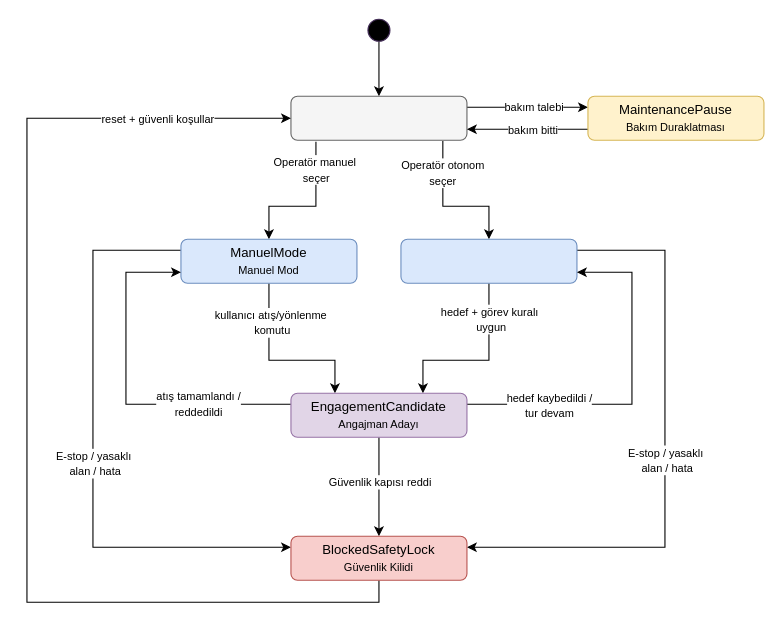
The diagram is 783 pixels wide and 630 high, and some of its shapes have lost their labels. Each missing label, with the centre of its shape:
"AutonomousSearchTrack Otonom Arama ve Takip" belongs at point (488, 260).
"SafeIdle Güvenli Bekleme" belongs at point (378, 117).
